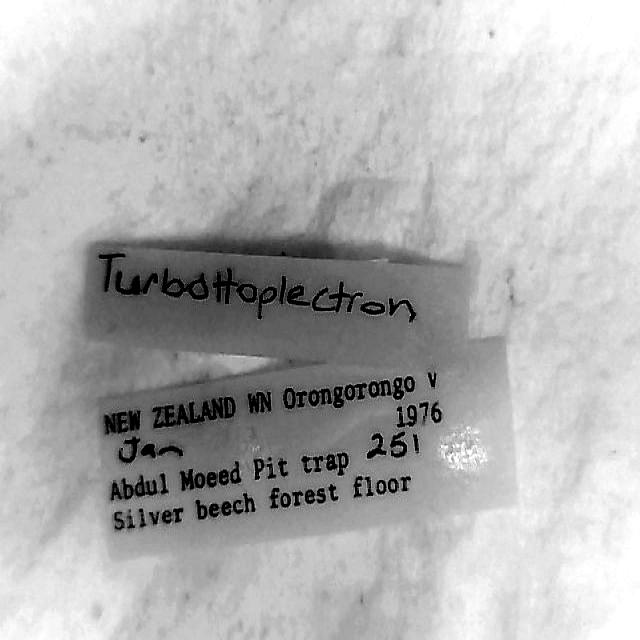hand_label: (86, 243, 468, 362)
mixed_label: (100, 338, 515, 555)
